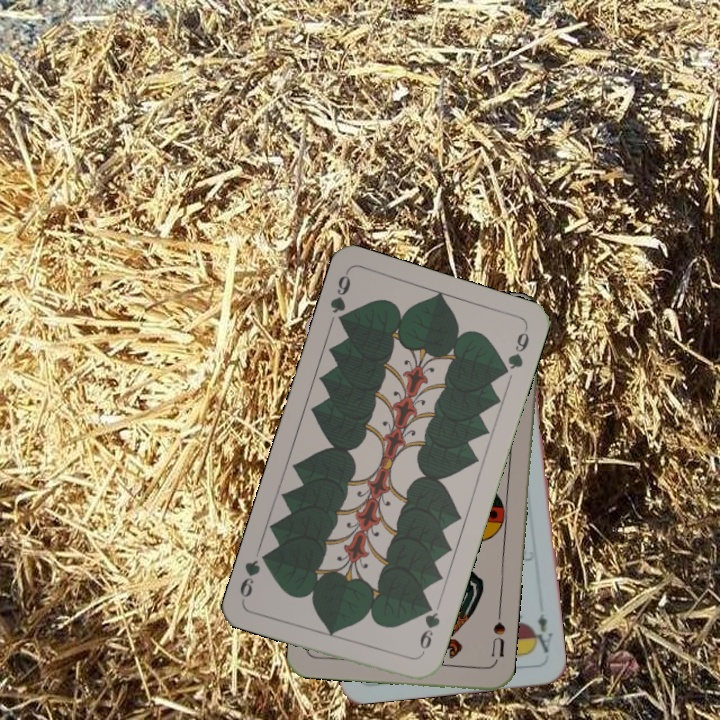EA: (528, 610, 555, 656)
G9: (415, 599, 443, 659), (326, 268, 353, 329)
SU: (487, 607, 508, 667)
